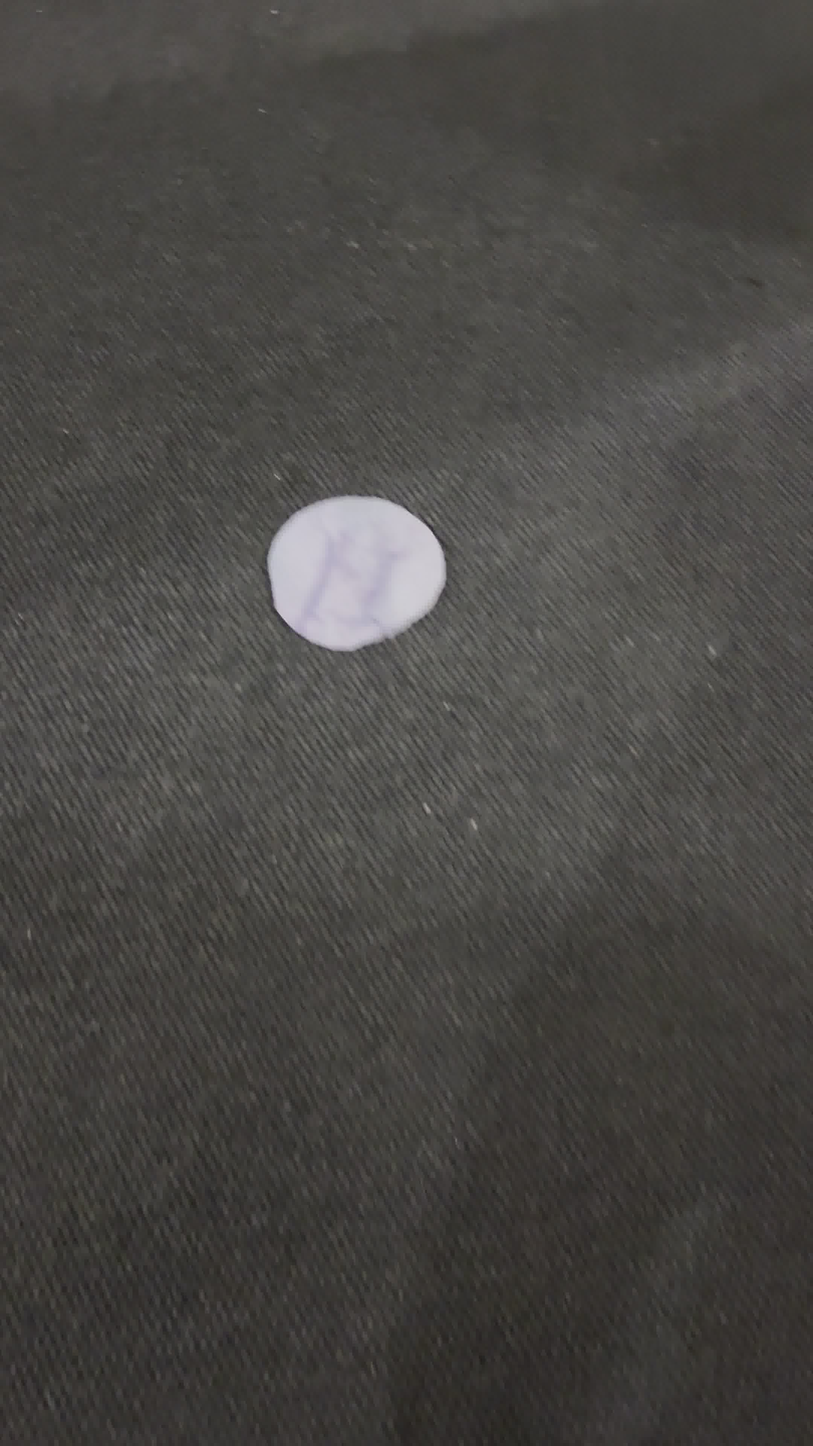Target: (269, 497, 443, 653)
